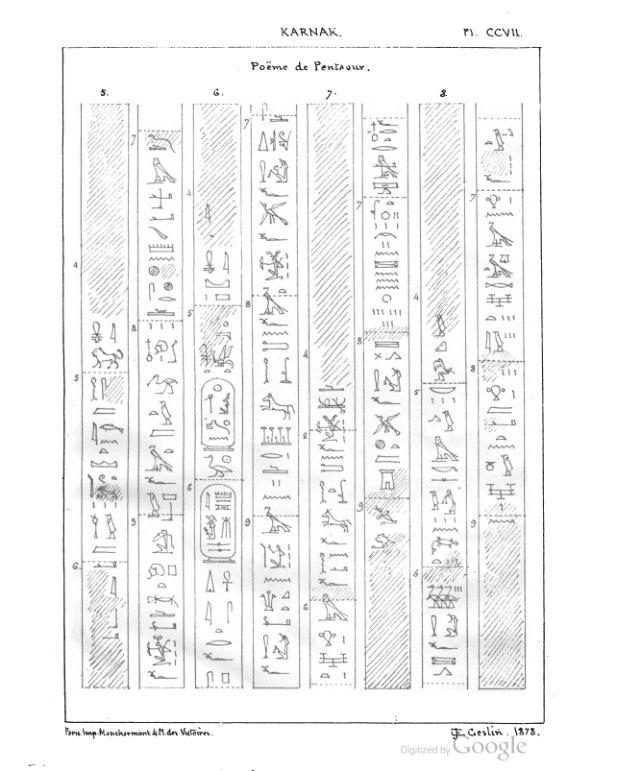circle: (196, 482, 241, 569), (197, 377, 239, 454)
